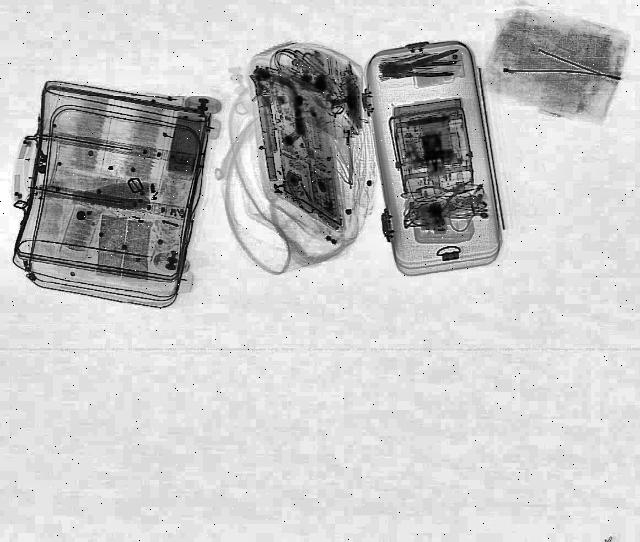Pliers: (413, 170, 483, 220), (384, 60, 461, 82)
